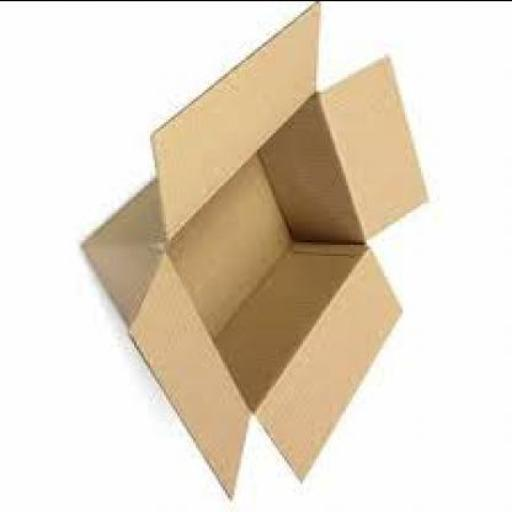cardboard: (84, 4, 430, 503)
